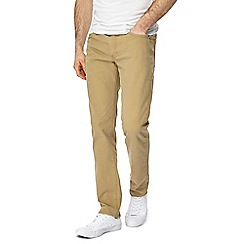jeans: (78, 31, 170, 208)
